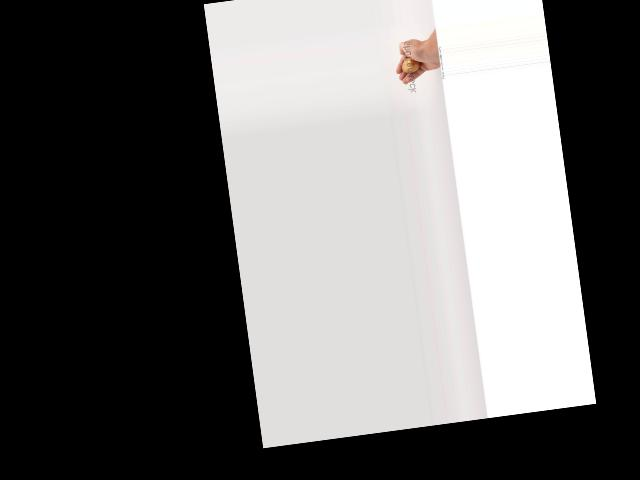egg: (401, 57, 421, 74)
